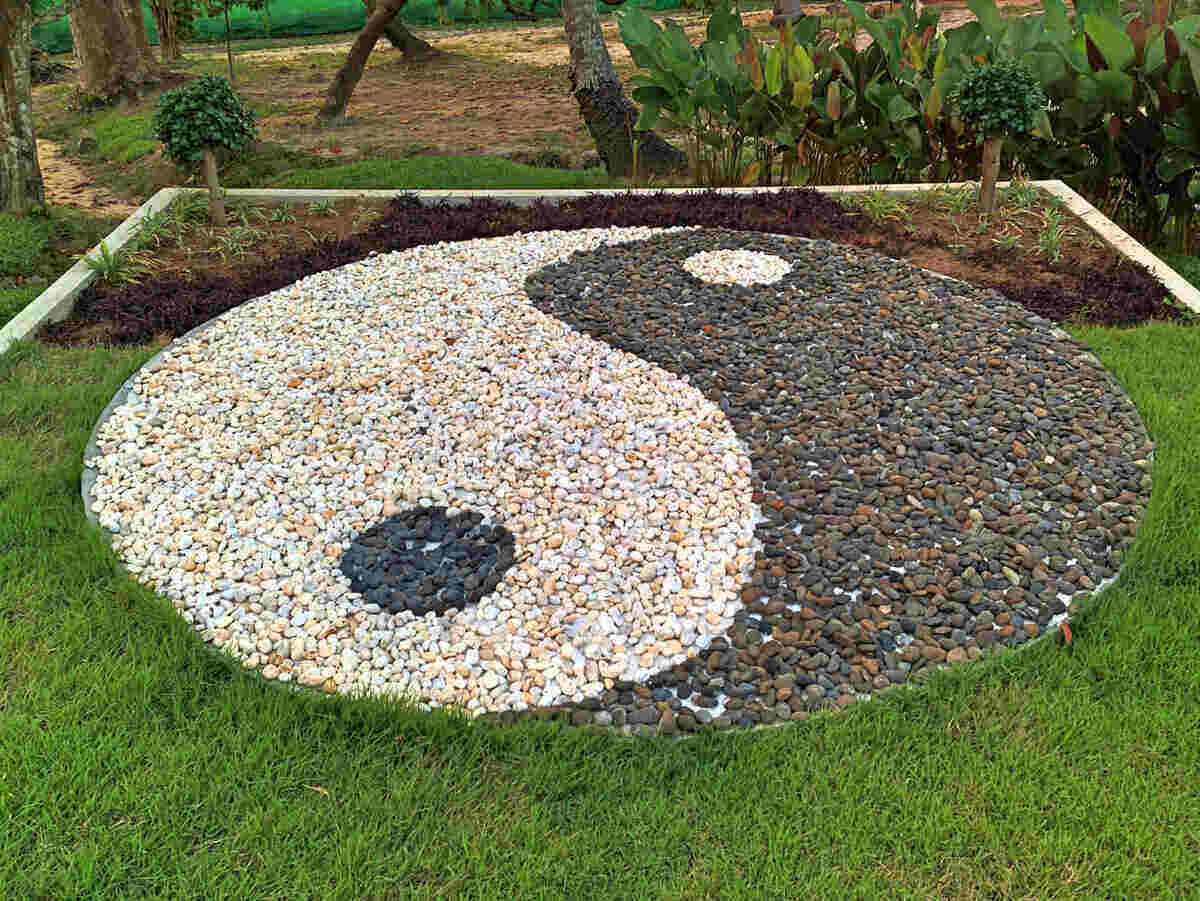grass: (150, 603, 1193, 897), (7, 348, 150, 899)
rock: (87, 211, 1152, 729)
tree: (566, 5, 680, 173), (69, 12, 156, 105)
